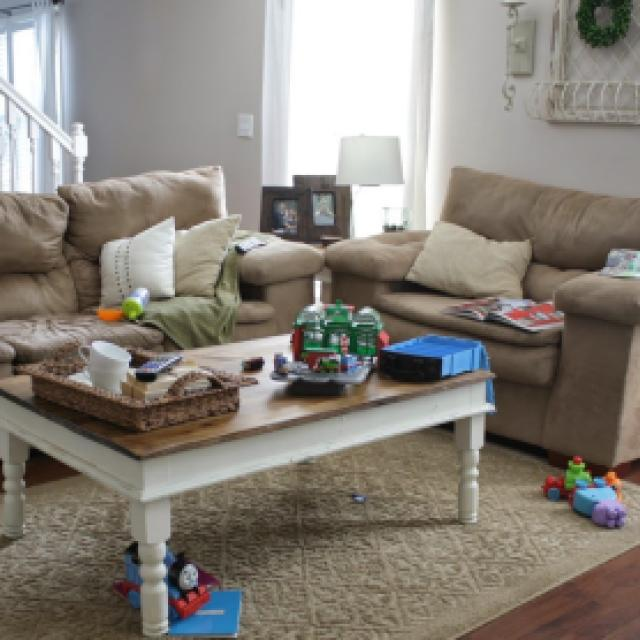mess: (250, 293, 515, 454), (37, 506, 260, 640), (522, 449, 640, 562)
